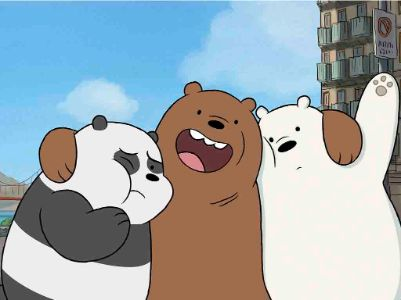bear: (256, 75, 400, 295), (22, 118, 172, 296), (159, 80, 269, 300)
